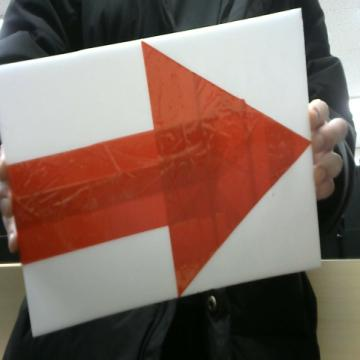red_right: (9, 43, 309, 295)
